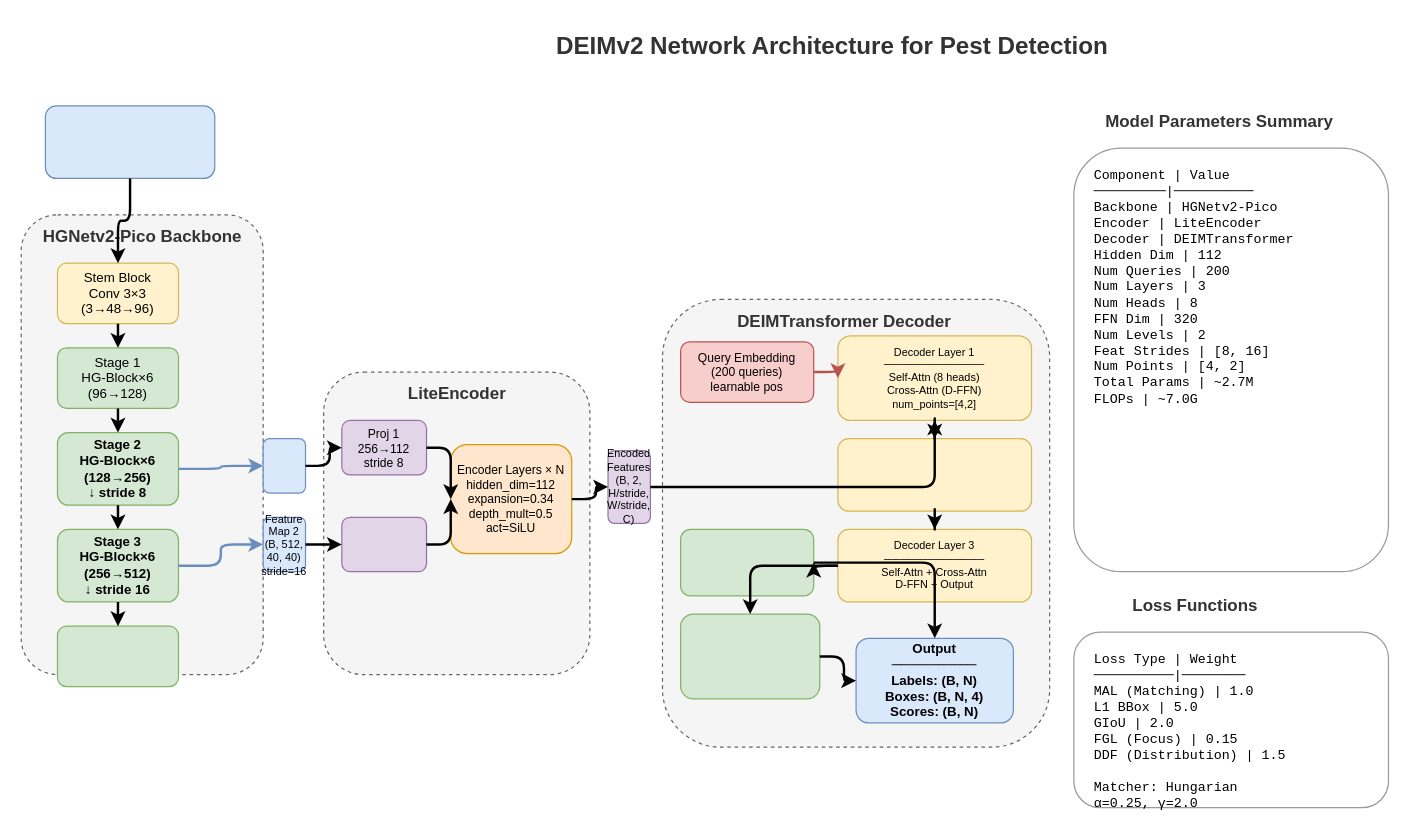
Image size: 1410x832. Some labels were removed from this diagram. The centre of each missing label's shape, as x and y in pixels:
Classification Head ───────────── 4 classes Focal Loss (α=0.25): [746,562]
Decoder Layer 2 ───────────── Self-Attn + Cross-Attn D-FFN (320 dim): [934,474]
Feature Map 1 (B, 256, 80, 80) stride=8: [284,465]
Input Image (B, 3, 640, 640): [129,141]
Proj 2 512→112 stride 16: [384,544]
Regression Head ───────────── L1 Loss (w=5.0) GIoU Loss (w=2.0) DFL (w=1.5): [749,656]
Stage 4 HG-Block×6 (512→1024): [117,656]
